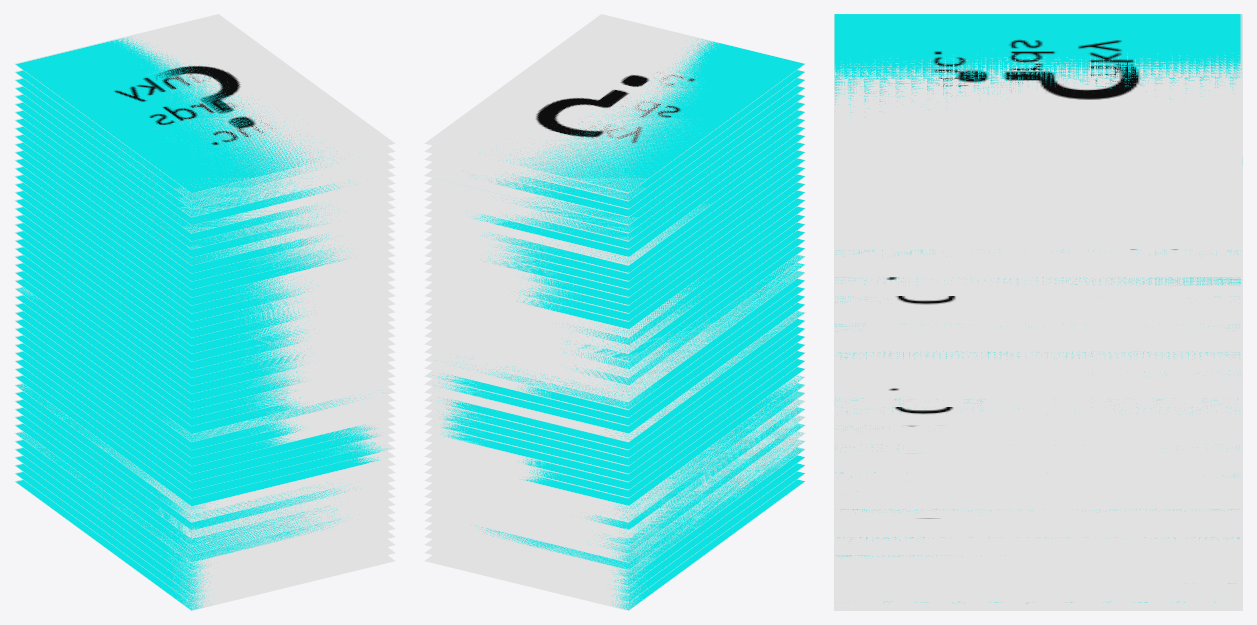
Rendered from cards.fbx.
3 renders of one model, left to right at view 1: azimuth 30°, elevation 25°; view 2: azimuth 150°, elevation 25°; view 3: azimuth 270°, elevation 25°, orthographic. The views are drawn at different scales.
Visible parts, largest first — view 1: CardTemplate.057, CardTemplate.042, CardTemplate.043, CardTemplate.049, CardTemplate.006, CardTemplate.007, CardTemplate.014, CardTemplate.016, CardTemplate.023, CardTemplate.041, CardTemplate.048, CardTemplate.050 (+41 smaller); view 2: CardTemplate.057, CardTemplate.042, CardTemplate.043, CardTemplate.006, CardTemplate.007, CardTemplate.014, CardTemplate.016, CardTemplate.023, CardTemplate.041, CardTemplate.048, CardTemplate.049, CardTemplate.050 (+41 smaller); view 3: CardTemplate.057, CardTemplate.005, CardTemplate.006, CardTemplate.007, CardTemplate.008, CardTemplate.009, CardTemplate.010, CardTemplate.011, CardTemplate.013, CardTemplate.014, CardTemplate.015, CardTemplate.016 (+41 smaller).
Boxes of the visible parts, bbox=[...] form: CardTemplate.057: bbox=[14, 14, 395, 193]; CardTemplate.042: bbox=[14, 182, 394, 313]; CardTemplate.043: bbox=[14, 174, 394, 305]; CardTemplate.049: bbox=[14, 126, 395, 257]; CardTemplate.006: bbox=[14, 471, 395, 602]; CardTemplate.007: bbox=[14, 463, 394, 594]; CardTemplate.014: bbox=[14, 407, 395, 538]; CardTemplate.016: bbox=[14, 391, 395, 522]; CardTemplate.023: bbox=[14, 335, 395, 466]; CardTemplate.041: bbox=[14, 190, 395, 321]; CardTemplate.048: bbox=[14, 134, 395, 265]; CardTemplate.050: bbox=[14, 118, 395, 249]; CardTemplate.057: bbox=[424, 14, 805, 193]; CardTemplate.042: bbox=[425, 182, 805, 313]; CardTemplate.043: bbox=[425, 174, 805, 305]; CardTemplate.006: bbox=[424, 471, 805, 602]; CardTemplate.007: bbox=[425, 463, 805, 594]; CardTemplate.014: bbox=[424, 407, 805, 538]; CardTemplate.016: bbox=[424, 391, 805, 522]; CardTemplate.023: bbox=[424, 335, 805, 466]; CardTemplate.041: bbox=[424, 190, 805, 321]; CardTemplate.048: bbox=[424, 134, 805, 265]; CardTemplate.049: bbox=[424, 126, 805, 257]; CardTemplate.050: bbox=[424, 118, 805, 249]; CardTemplate.057: bbox=[834, 14, 1242, 128]; CardTemplate.005: bbox=[834, 601, 1242, 610]; CardTemplate.006: bbox=[834, 592, 1242, 601]; CardTemplate.007: bbox=[834, 583, 1242, 592]; CardTemplate.008: bbox=[834, 574, 1242, 583]; CardTemplate.009: bbox=[834, 564, 1242, 573]; CardTemplate.010: bbox=[834, 555, 1242, 564]; CardTemplate.011: bbox=[834, 546, 1242, 555]; CardTemplate.013: bbox=[834, 527, 1242, 536]; CardTemplate.014: bbox=[834, 518, 1242, 527]; CardTemplate.015: bbox=[834, 509, 1242, 518]; CardTemplate.016: bbox=[834, 499, 1242, 508].
Bounding box in the file's own units: 133 × 260 × 200.
